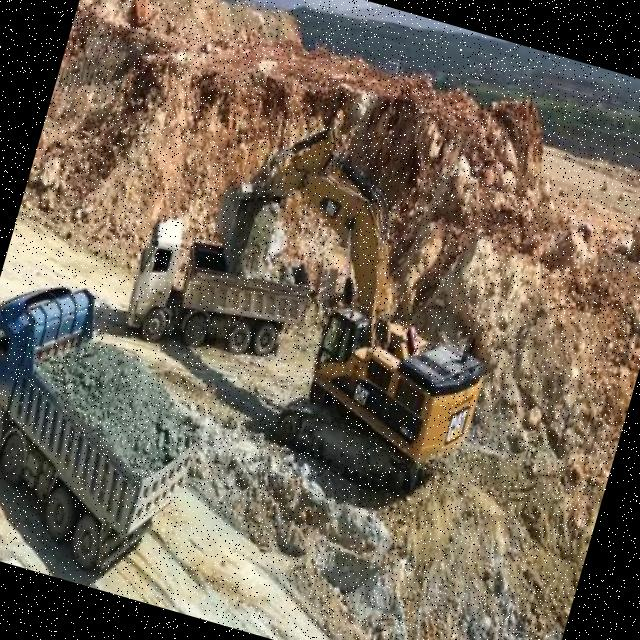Dump Truck: (0, 263, 229, 586), (118, 208, 322, 380)
Excavator: (150, 96, 543, 516)
